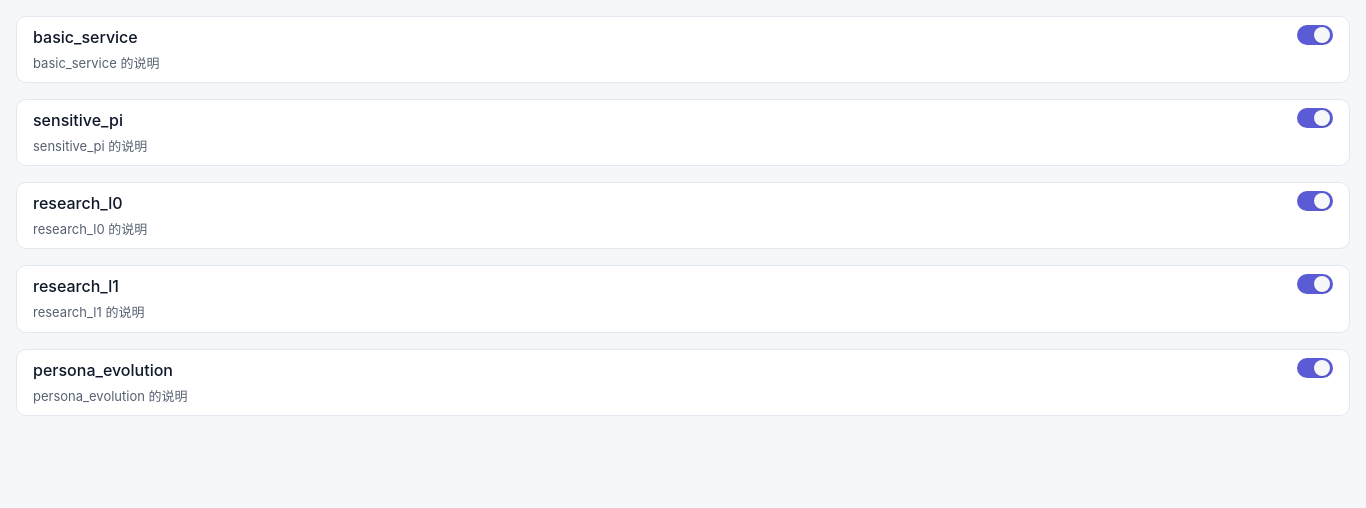
(c) 撤回失败 ⇒ Switch 回弹到服务端真实状态 + 错误文案 › 失败的撤回让 Switch 保持 checked，并渲染含「仍在继续」的文案
Click the switch named "撤回「research_l0」的开关": [1315, 201] box x1=1297 y1=191 x2=1333 y2=211
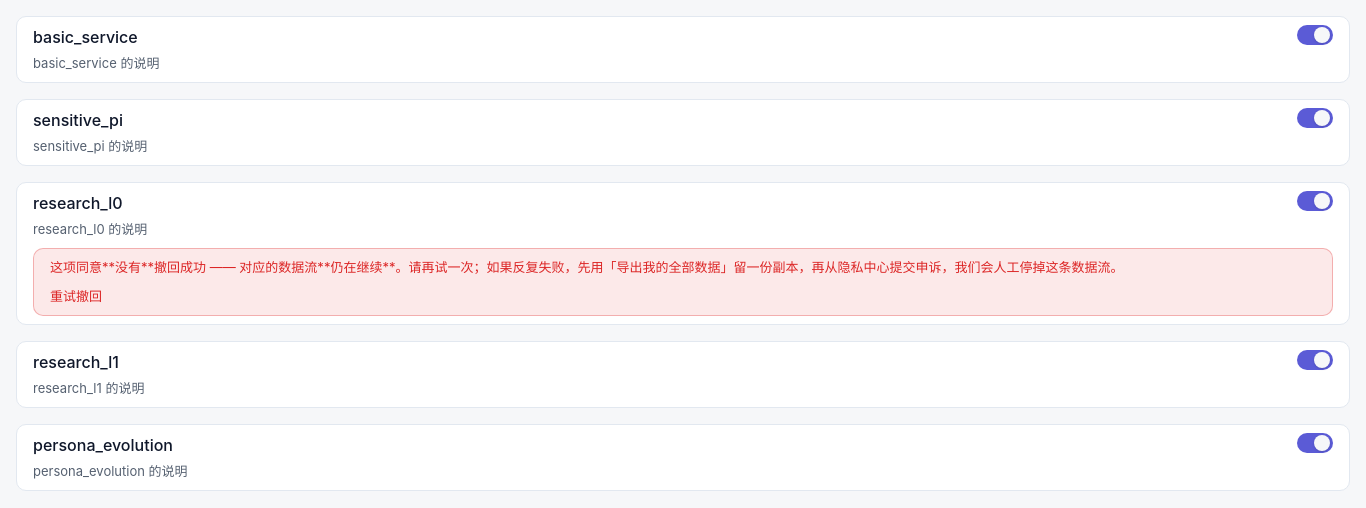
Expected: the message is shown, x1=33 y1=248 x2=1333 y2=316
